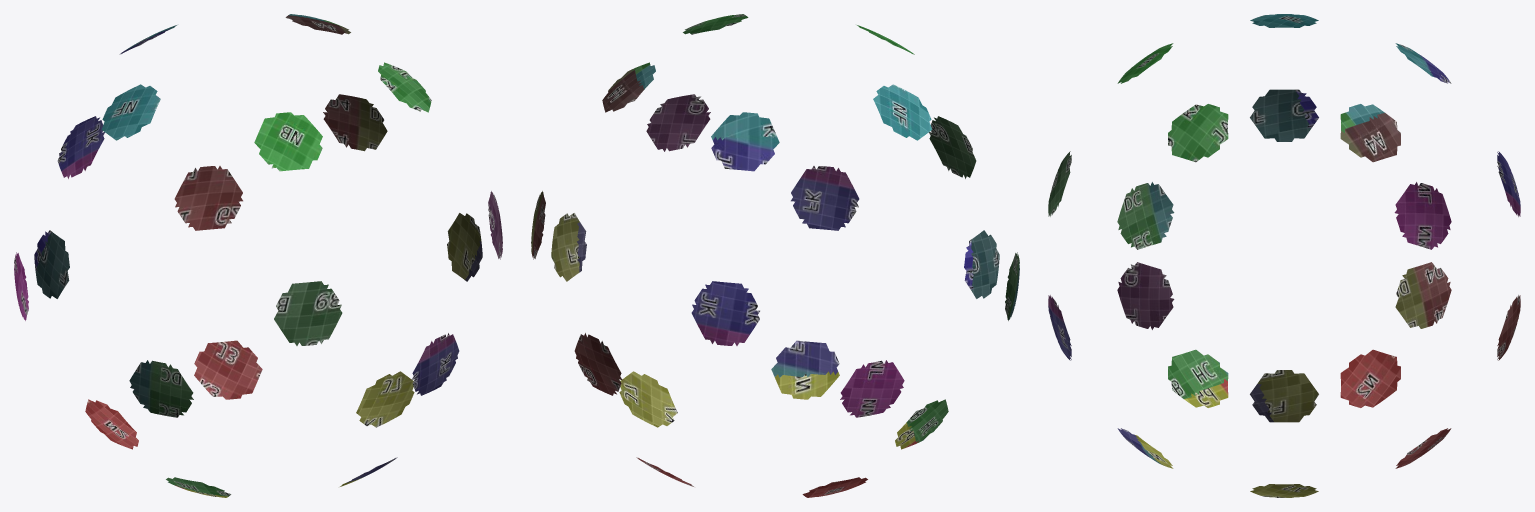
Rendered from jy_lm_colossus_lite.glb.
3 views of the same model, side by side, from view 1: azimuth 30°, elevation 25°; view 2: azimuth 150°, elevation 25°; view 3: azimuth 270°, elevation 25° (orthographic).
Visible parts, largest first — view 1: Icosphere; view 2: Icosphere; view 3: Icosphere.
Boxes of the visible parts, left/top/right/bottom form: Icosphere: left=14, top=14, right=502, bottom=497; Icosphere: left=531, top=14, right=1019, bottom=497; Icosphere: left=1048, top=14, right=1520, bottom=497.
Bounding box in the file's own units: 5.99 × 5.22 × 5.84.
1 material, 1 textured.
